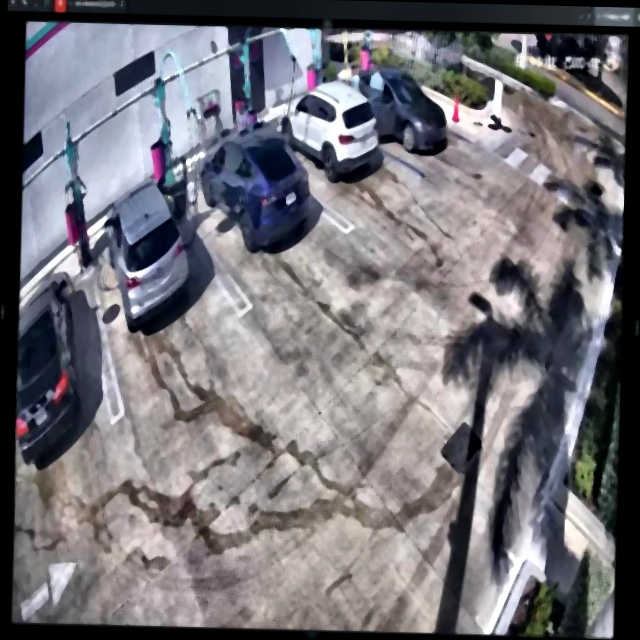Car: (111, 152, 194, 328), (199, 119, 310, 249), (279, 76, 383, 182), (349, 67, 447, 156)
